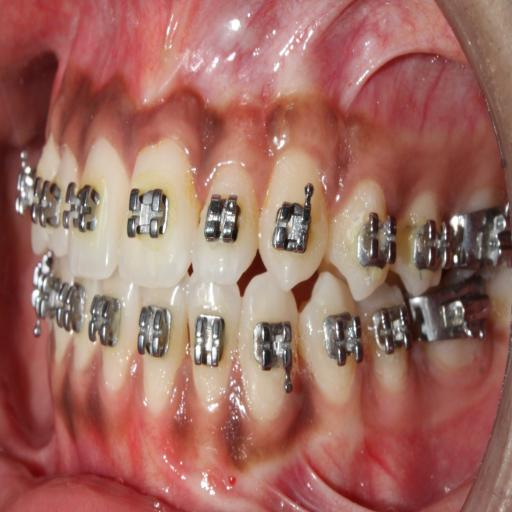correct_brace: (327, 178, 398, 297), (306, 274, 359, 402), (268, 195, 316, 261), (125, 178, 172, 242), (322, 303, 362, 371), (202, 192, 241, 249), (252, 321, 297, 370), (193, 311, 225, 368)
incorrect_brace: (195, 160, 259, 279), (187, 277, 243, 410), (362, 208, 395, 264)
